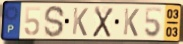5: (145, 6, 164, 39), (24, 6, 42, 37)
K: (71, 6, 90, 38), (122, 7, 141, 38)
S: (43, 5, 66, 39)
X: (91, 5, 115, 39)
